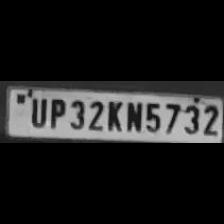2: (198, 100, 220, 136), (84, 96, 104, 132)
3: (179, 100, 199, 136), (65, 96, 84, 130)
5: (142, 100, 162, 132)
7: (162, 100, 180, 134)
K: (104, 98, 124, 132)
N: (124, 99, 142, 134)
P: (46, 96, 66, 128)
U: (27, 96, 47, 128)
